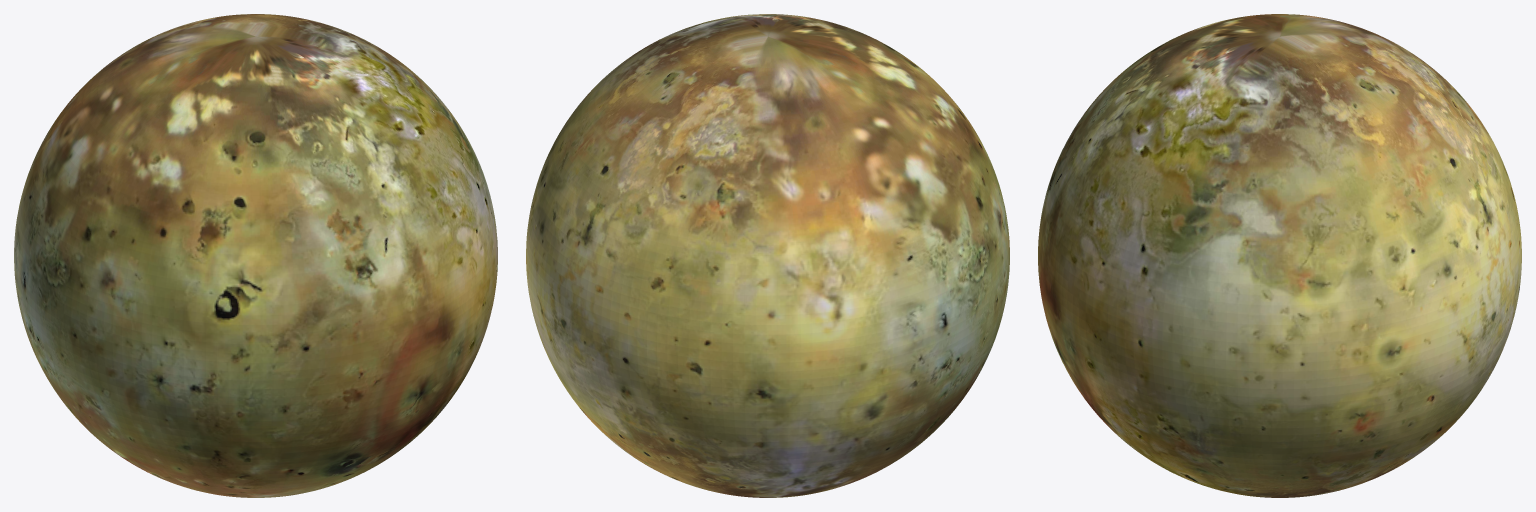
The model's file is io_jupiters_moon.glb.
3 renders of one model, left to right at view 1: azimuth 30°, elevation 25°; view 2: azimuth 150°, elevation 25°; view 3: azimuth 270°, elevation 25°, orthographic.
Visible parts, largest first — view 1: Sphere; view 2: Sphere; view 3: Sphere.
Boxes of the visible parts, left/top/right/bottom form: Sphere: left=14, top=14, right=497, bottom=497; Sphere: left=526, top=14, right=1009, bottom=497; Sphere: left=1038, top=14, right=1521, bottom=497.
Size of the model in its own units: 2 by 2 by 2.
1 material, 1 textured.
